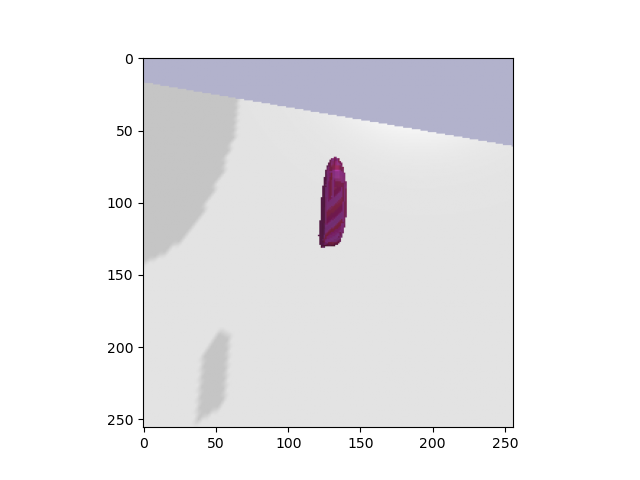v249b387_105: (309, 153, 359, 256)
